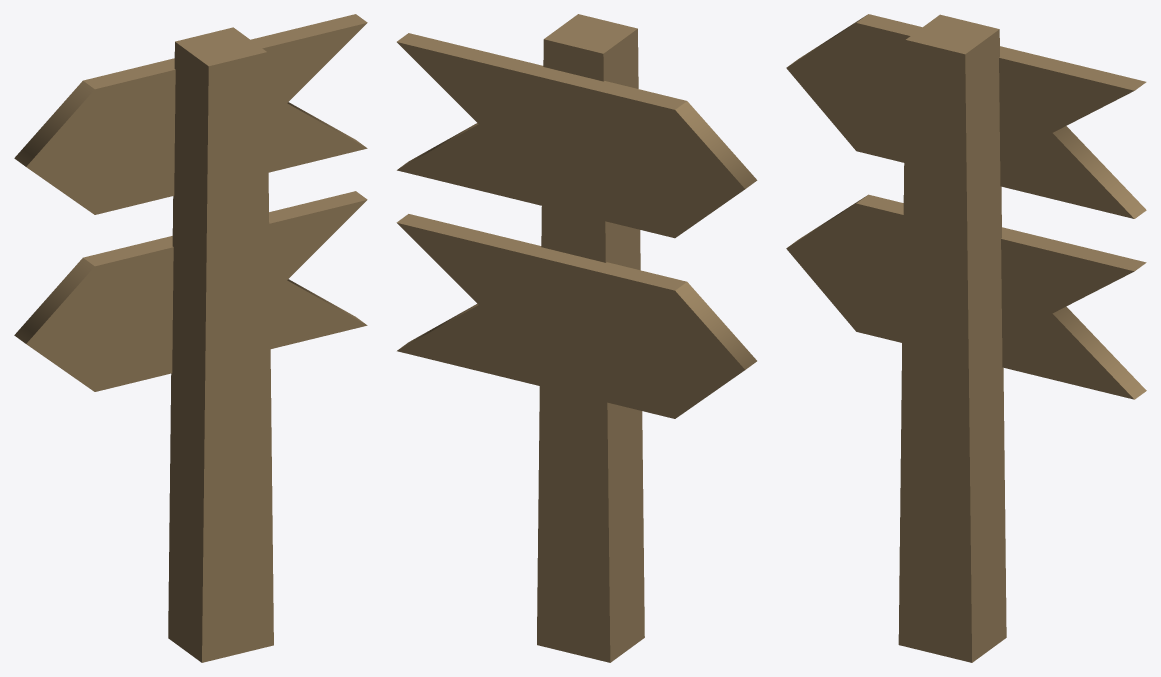
The model's file is model_polytope_sign02.fbx.
3 renders of one model, left to right at view 1: azimuth 30°, elevation 25°; view 2: azimuth 150°, elevation 25°; view 3: azimuth 330°, elevation 25°, orthographic. The views are drawn at different scales.
Parts seen in each view (by area): view 1: model_polytope_sign02; view 2: model_polytope_sign02; view 3: model_polytope_sign02.
Part boxes in pixels (x1,y1,x2,y2): model_polytope_sign02: (14,14,367,662); model_polytope_sign02: (396,14,757,662); model_polytope_sign02: (786,14,1146,662).
Size of the model in its own units: 81.49 by 136 by 18.45.
